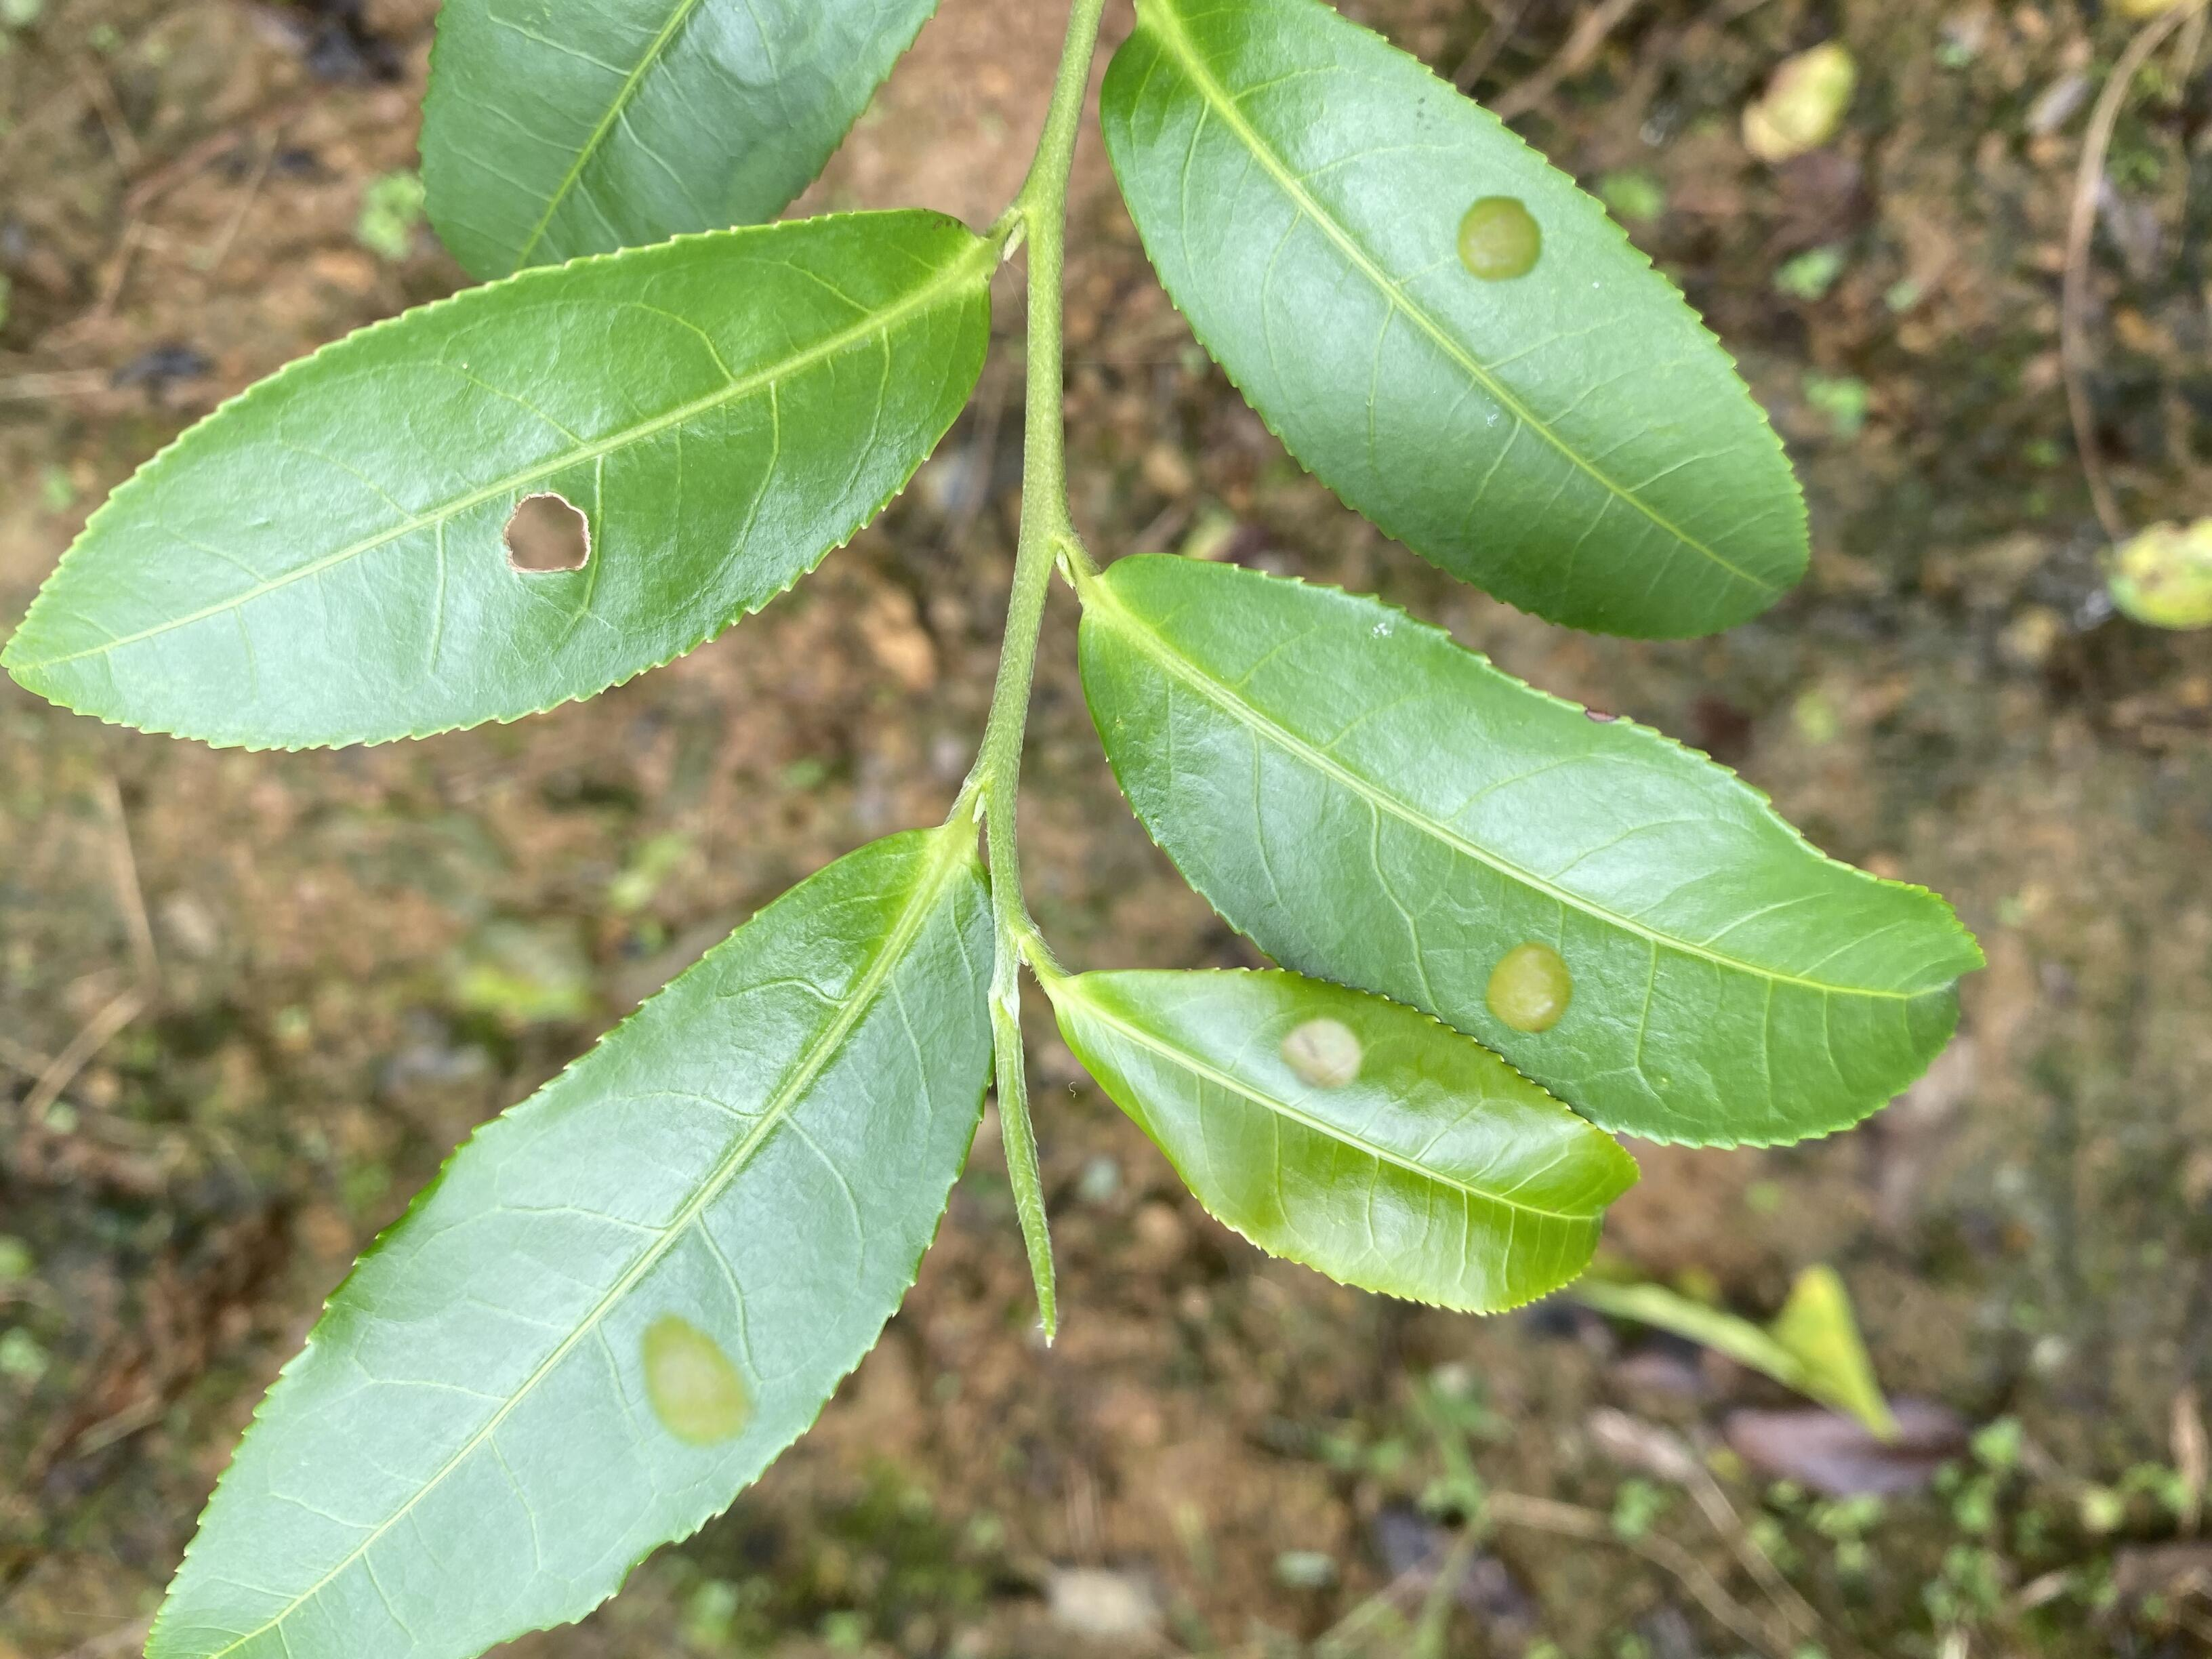chabing_low: (141, 823, 995, 1656), (1073, 551, 1989, 1154), (1101, 2, 1810, 643), (1052, 969, 1646, 1316)
chihuo_low: (2, 209, 1000, 755)
healthy: (418, 2, 942, 279)
